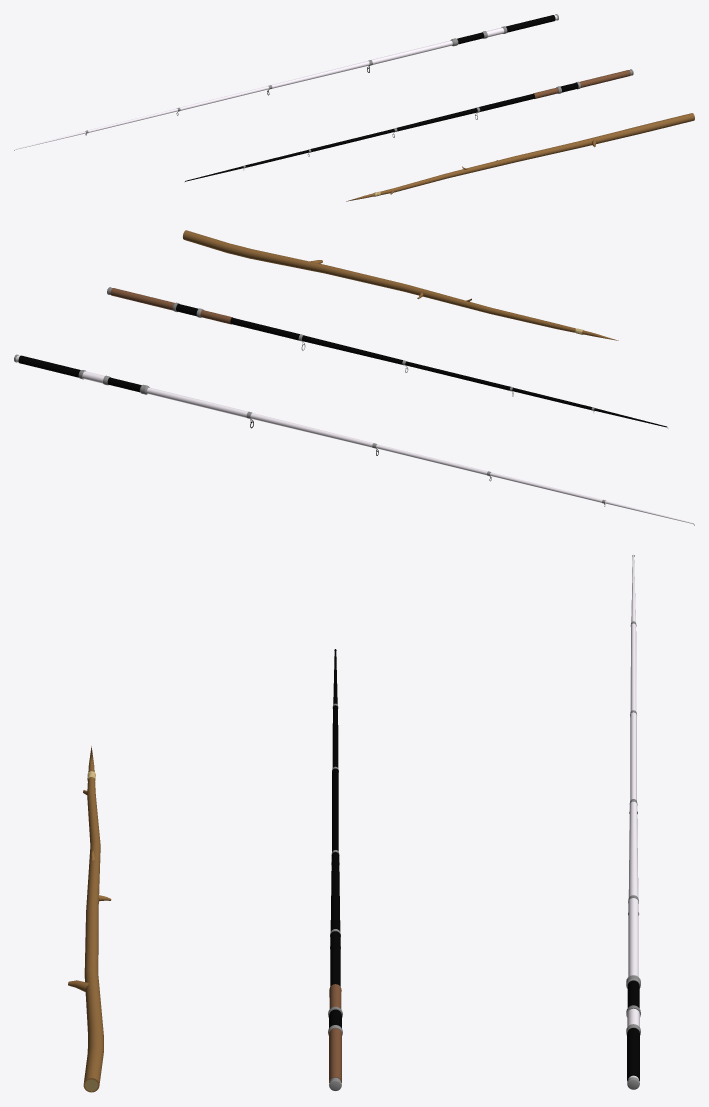
File: 3wedki.fbx
3 views of the same model, one above another, from view 1: azimuth 30°, elevation 25°; view 2: azimuth 150°, elevation 25°; view 3: azimuth 270°, elevation 25° (orthographic). The views are drawn at different scales.
Parts seen in each view (by area): view 1: Circle.006, Cylinder.006, Circle.005; view 2: Circle.006, Cylinder.006, Circle.005; view 3: Circle.006, Cylinder.006, Circle.005.
Boxes of the visible parts, x1=… form: Circle.006: x1=14, y1=14, x2=558, y2=150; Cylinder.006: x1=346, y1=113, x2=694, y2=201; Circle.005: x1=184, y1=69, x2=633, y2=182; Circle.006: x1=14, y1=354, x2=694, y2=525; Cylinder.006: x1=183, y1=230, x2=618, y2=340; Circle.005: x1=107, y1=287, x2=668, y2=428; Circle.006: x1=626, y1=554, x2=640, y2=1089; Cylinder.006: x1=68, y1=746, x2=111, y2=1092; Circle.005: x1=328, y1=649, x2=342, y2=1090.
Bounding box in the file's own units: 39164 × 1076 × 17867.
